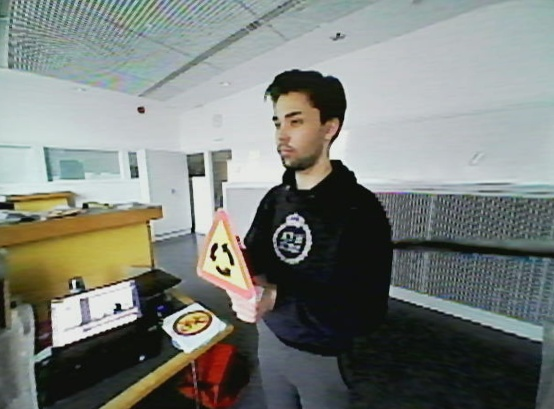roundabout_warning: (195, 207, 259, 302)
